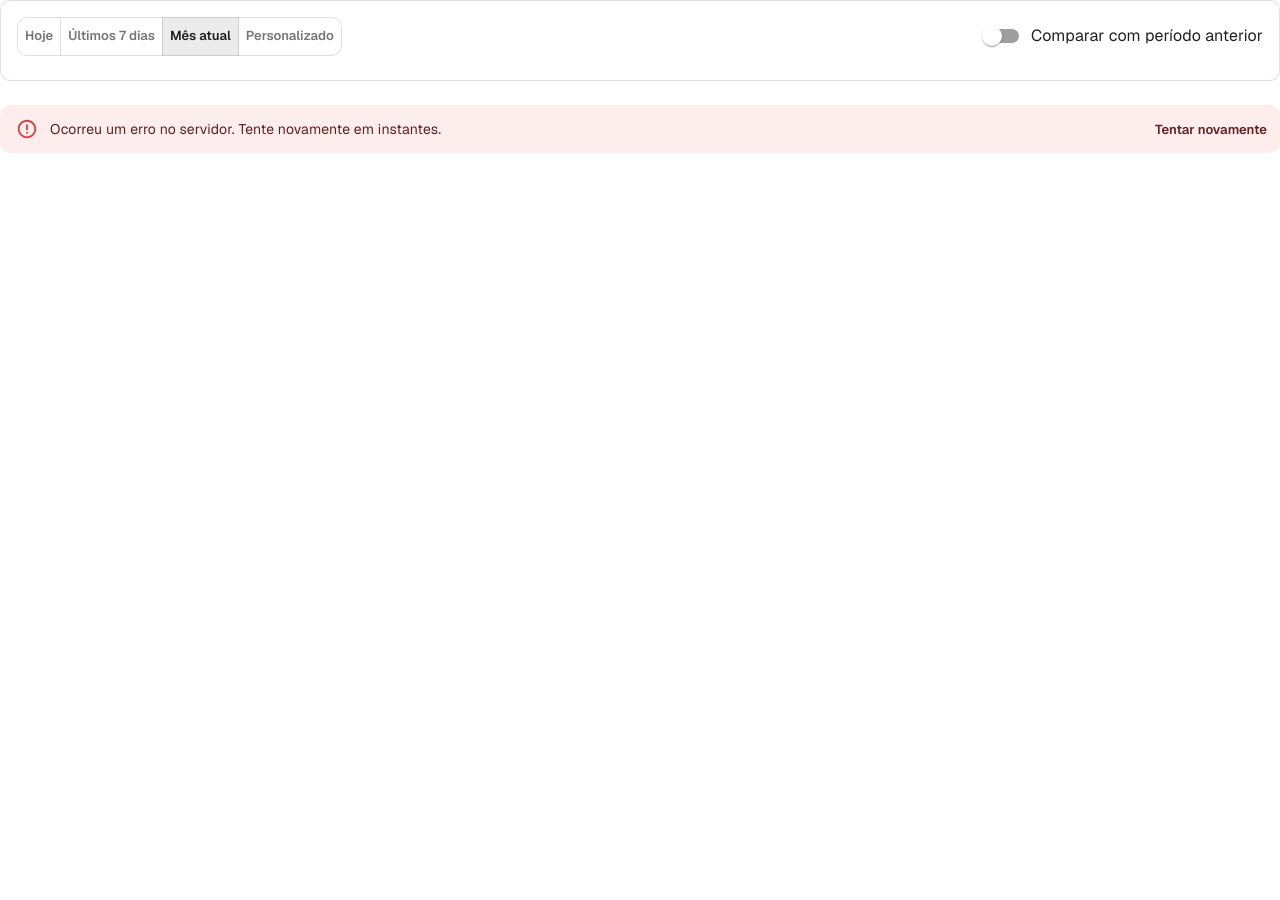
Test: IndicatorsDashboard › shows error alert and allows retrying when API fails
Expected: the message "Ocorreu um erro no servidor. Tente novamente em instantes. Tentar novamente" is shown, [0,105,1279,153]
Click the button "Tentar novamente": (1211, 130) [1150,115,1272,146]
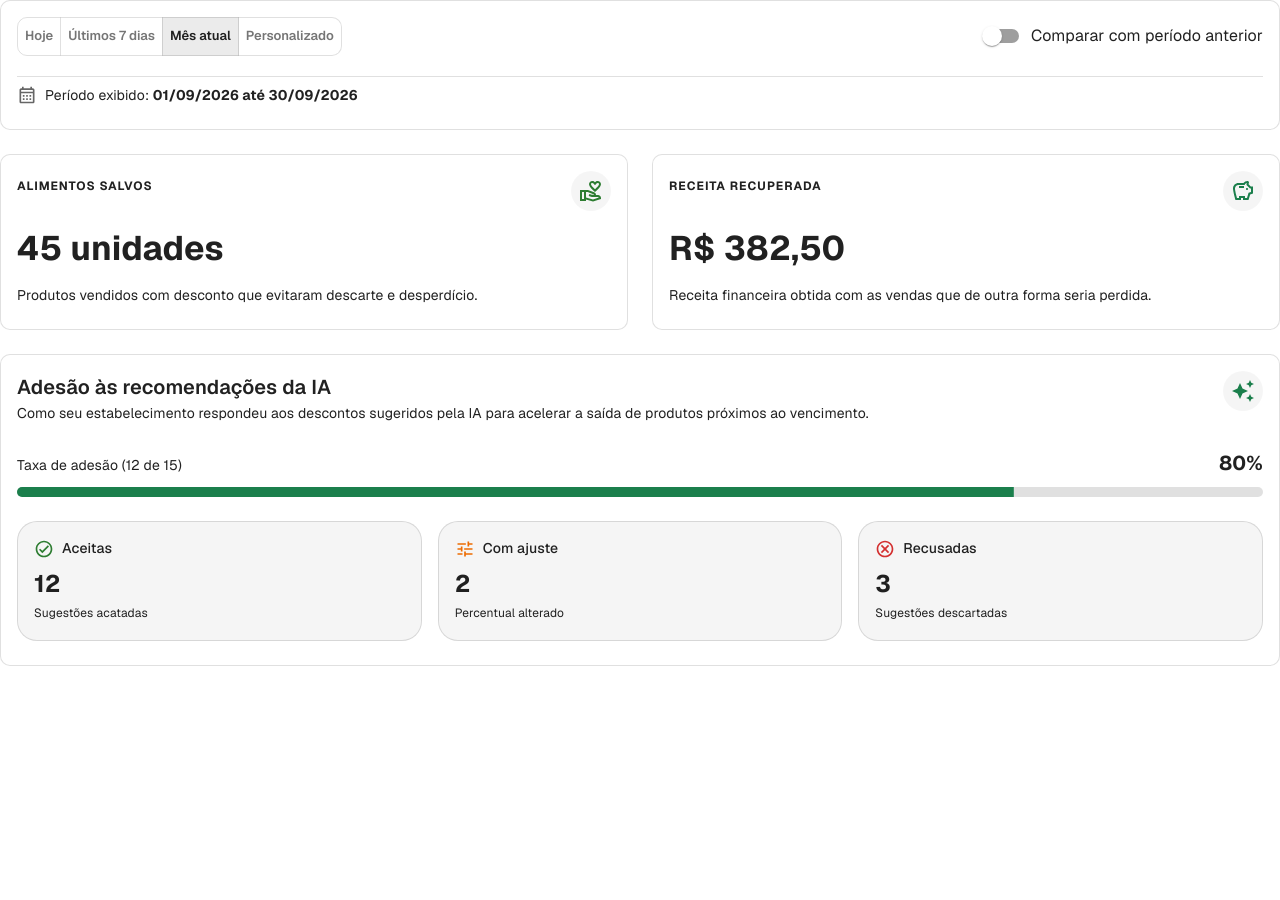
Expected: the text "Alimentos Salvos" is shown, [17,178,153,194]
